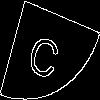C: (25, 25, 65, 81)
